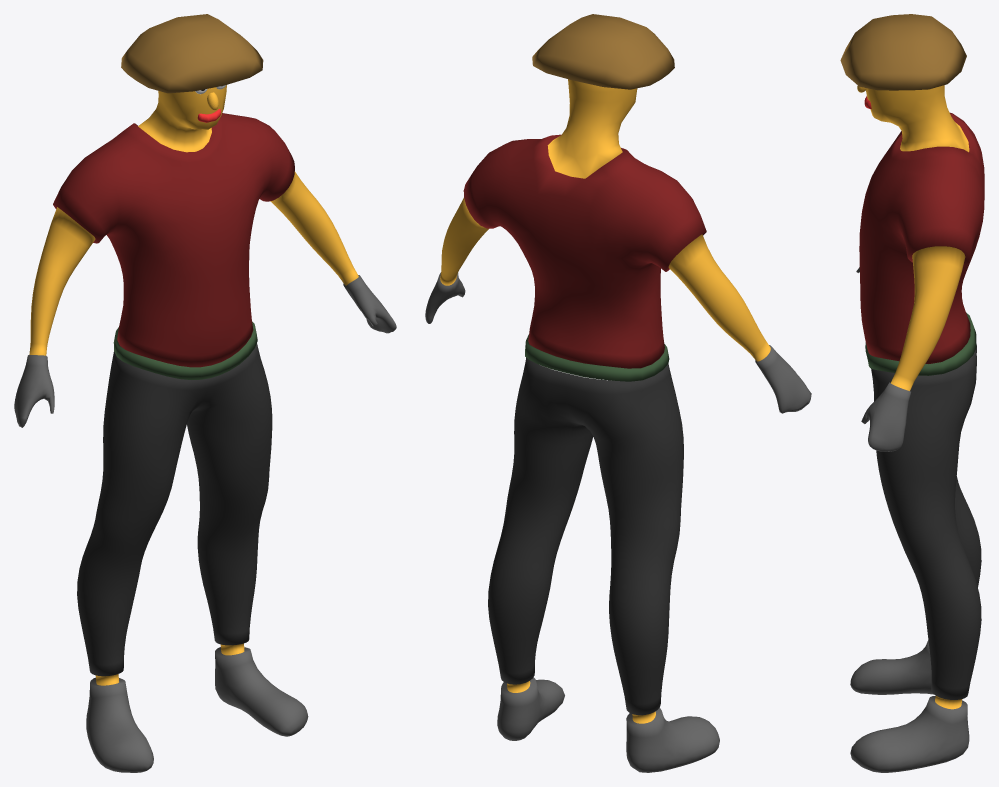
The model's file is Karakter3.fbx.
3 renders of one model, left to right at view 1: azimuth 30°, elevation 25°; view 2: azimuth 150°, elevation 25°; view 3: azimuth 270°, elevation 25°, orthographic.
Visible parts, largest first — view 1: male_zbrush; view 2: male_zbrush; view 3: male_zbrush.
Boxes of the visible parts, left/top/right/bottom form: male_zbrush: left=14, top=14, right=396, bottom=772; male_zbrush: left=425, top=14, right=811, bottom=772; male_zbrush: left=840, top=14, right=984, bottom=772.
Size of the model in its own units: 157 by 285 by 52.81.
Materials: 1 (1 with a texture image).
